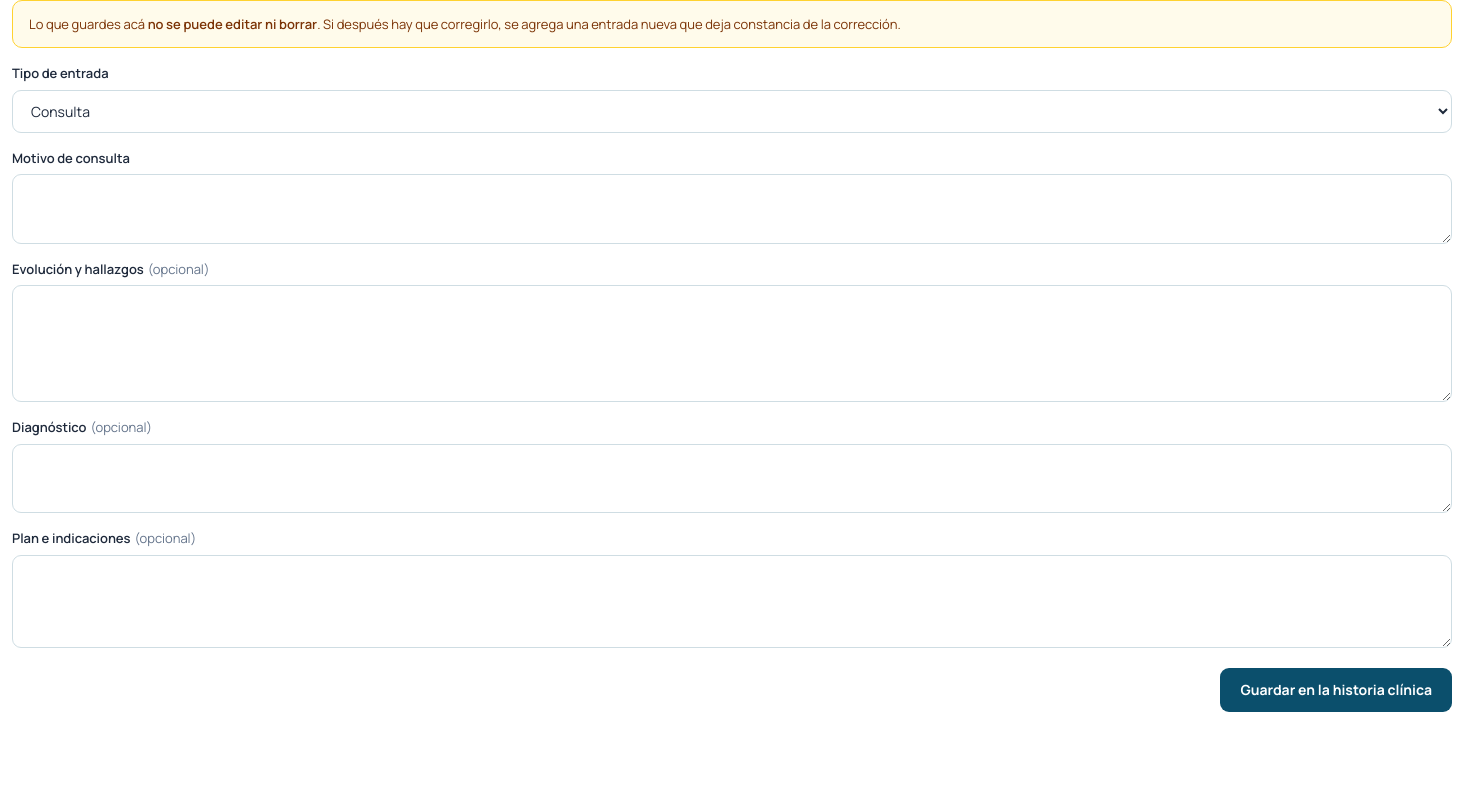
Test: ClinicalEntryForm (ENG-58) › exige el motivo antes de mandar nada
What coordinates should you click on to do the following:
click the button "Guardar en la historia clínica"
I would click on:
 (1336, 690)
Its box is 1220,668 -> 1452,712.
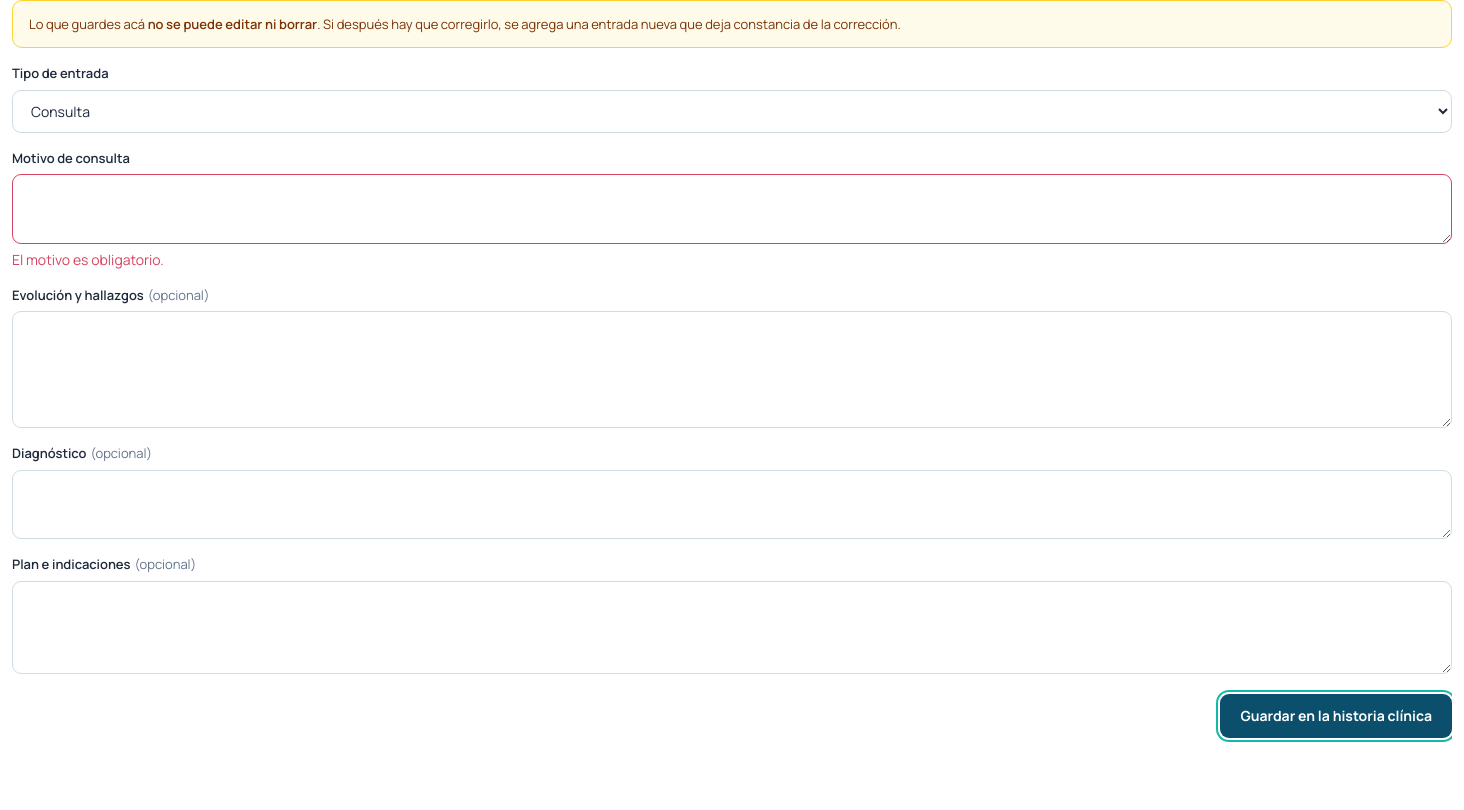
Result: the text "El motivo es obligatorio." is shown at 12,250 -> 164,269
